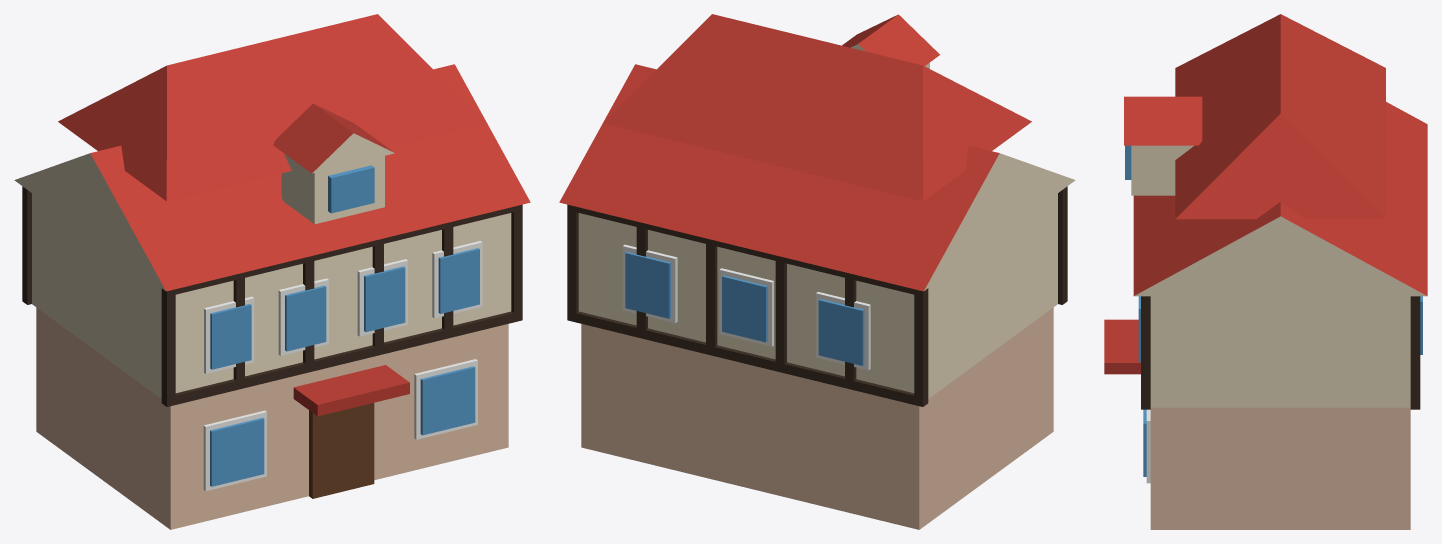
Rendered from 31_franconian_inn_1.obj.
The picture shows the model from 3 angles, left to right: view 1: azimuth 30°, elevation 25°; view 2: azimuth 150°, elevation 25°; view 3: azimuth 270°, elevation 25°; orthographic projection. The views are drawn at different scales.
Visible parts, largest first — view 1: 31_franconian_inn_1; view 2: 31_franconian_inn_1; view 3: 31_franconian_inn_1.
Part boxes in pixels (left/top/right/bottom): 31_franconian_inn_1: left=14, top=14, right=530, bottom=529; 31_franconian_inn_1: left=559, top=14, right=1075, bottom=529; 31_franconian_inn_1: left=1104, top=14, right=1427, bottom=529.
Bounding box in the file's own units: 1.66 × 1.74 × 1.32.
